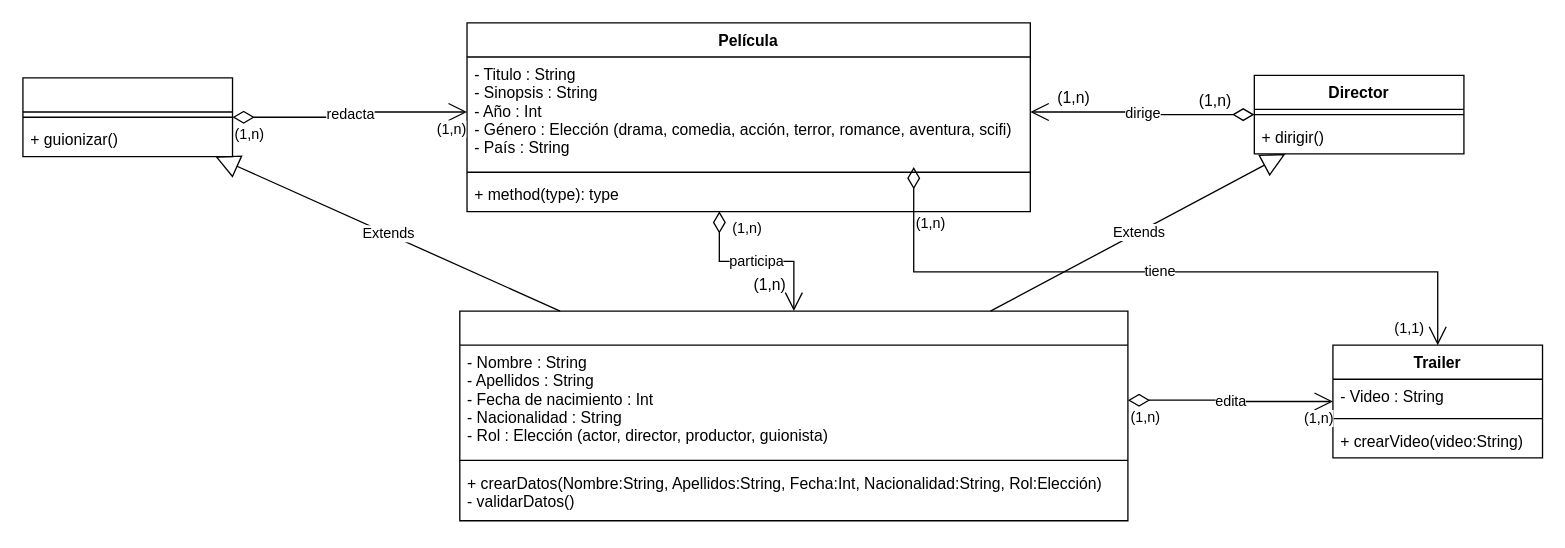
Some shapes in this 1565 by 548 pixel diagram are drawn without their labels. The box of each missing label's shape, as (x1, y1, x2, y2) in pixels:
Guionista: (22, 77, 233, 157)
Persona: (458, 310, 1128, 521)
